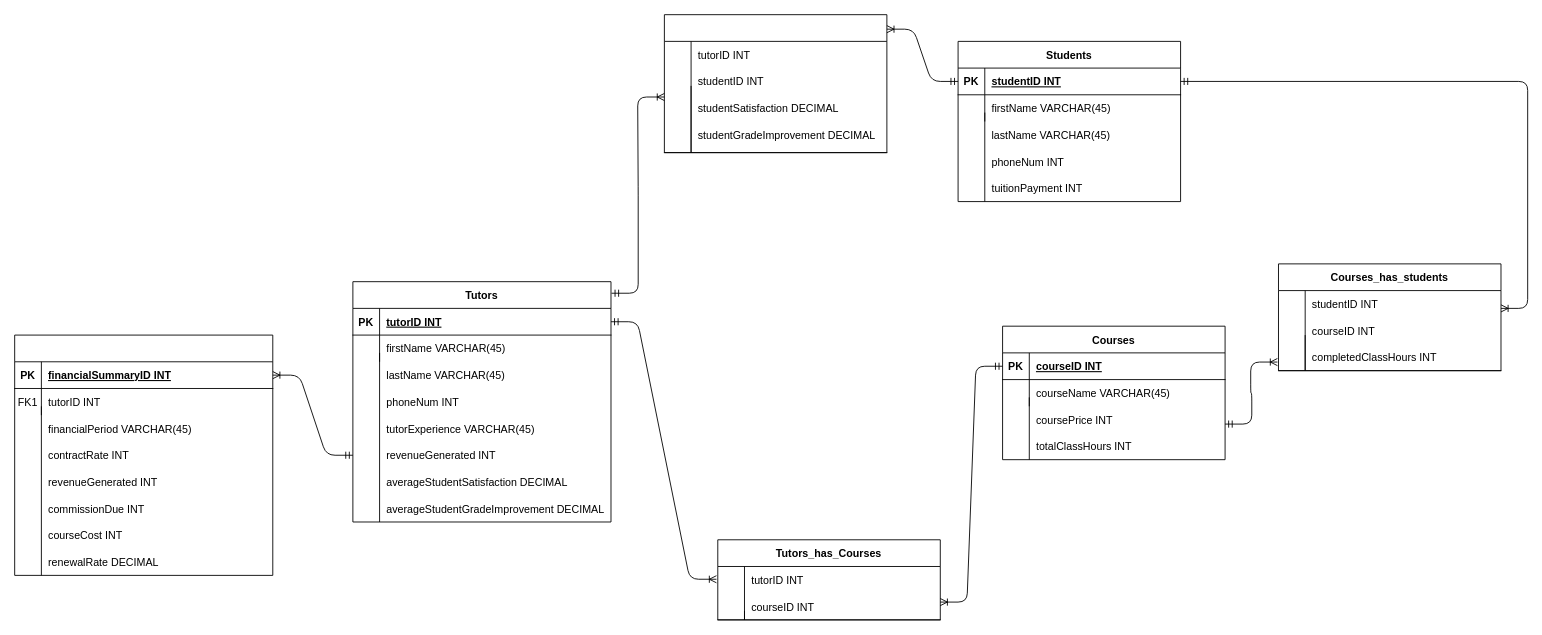
Some shapes in this 1542 by 635 pixel diagram are drawn without their labels. Here are the shapes that lost their labels. From the top down, the box of each, then its label:
(663, 14, 887, 153): Tutors_has_Students
(14, 334, 273, 575): FinancialSummaries
